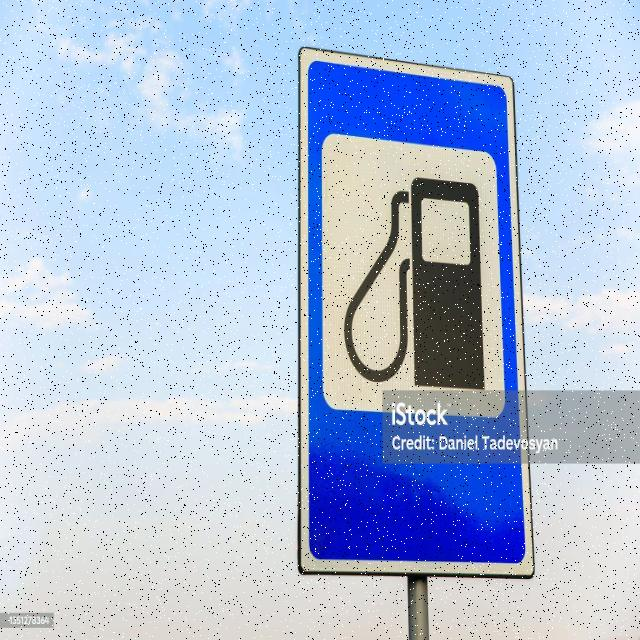petrol_station: (313, 134, 501, 396)
